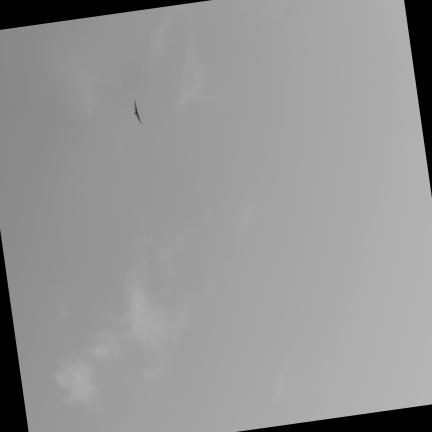Shahed: (134, 100, 140, 122)
